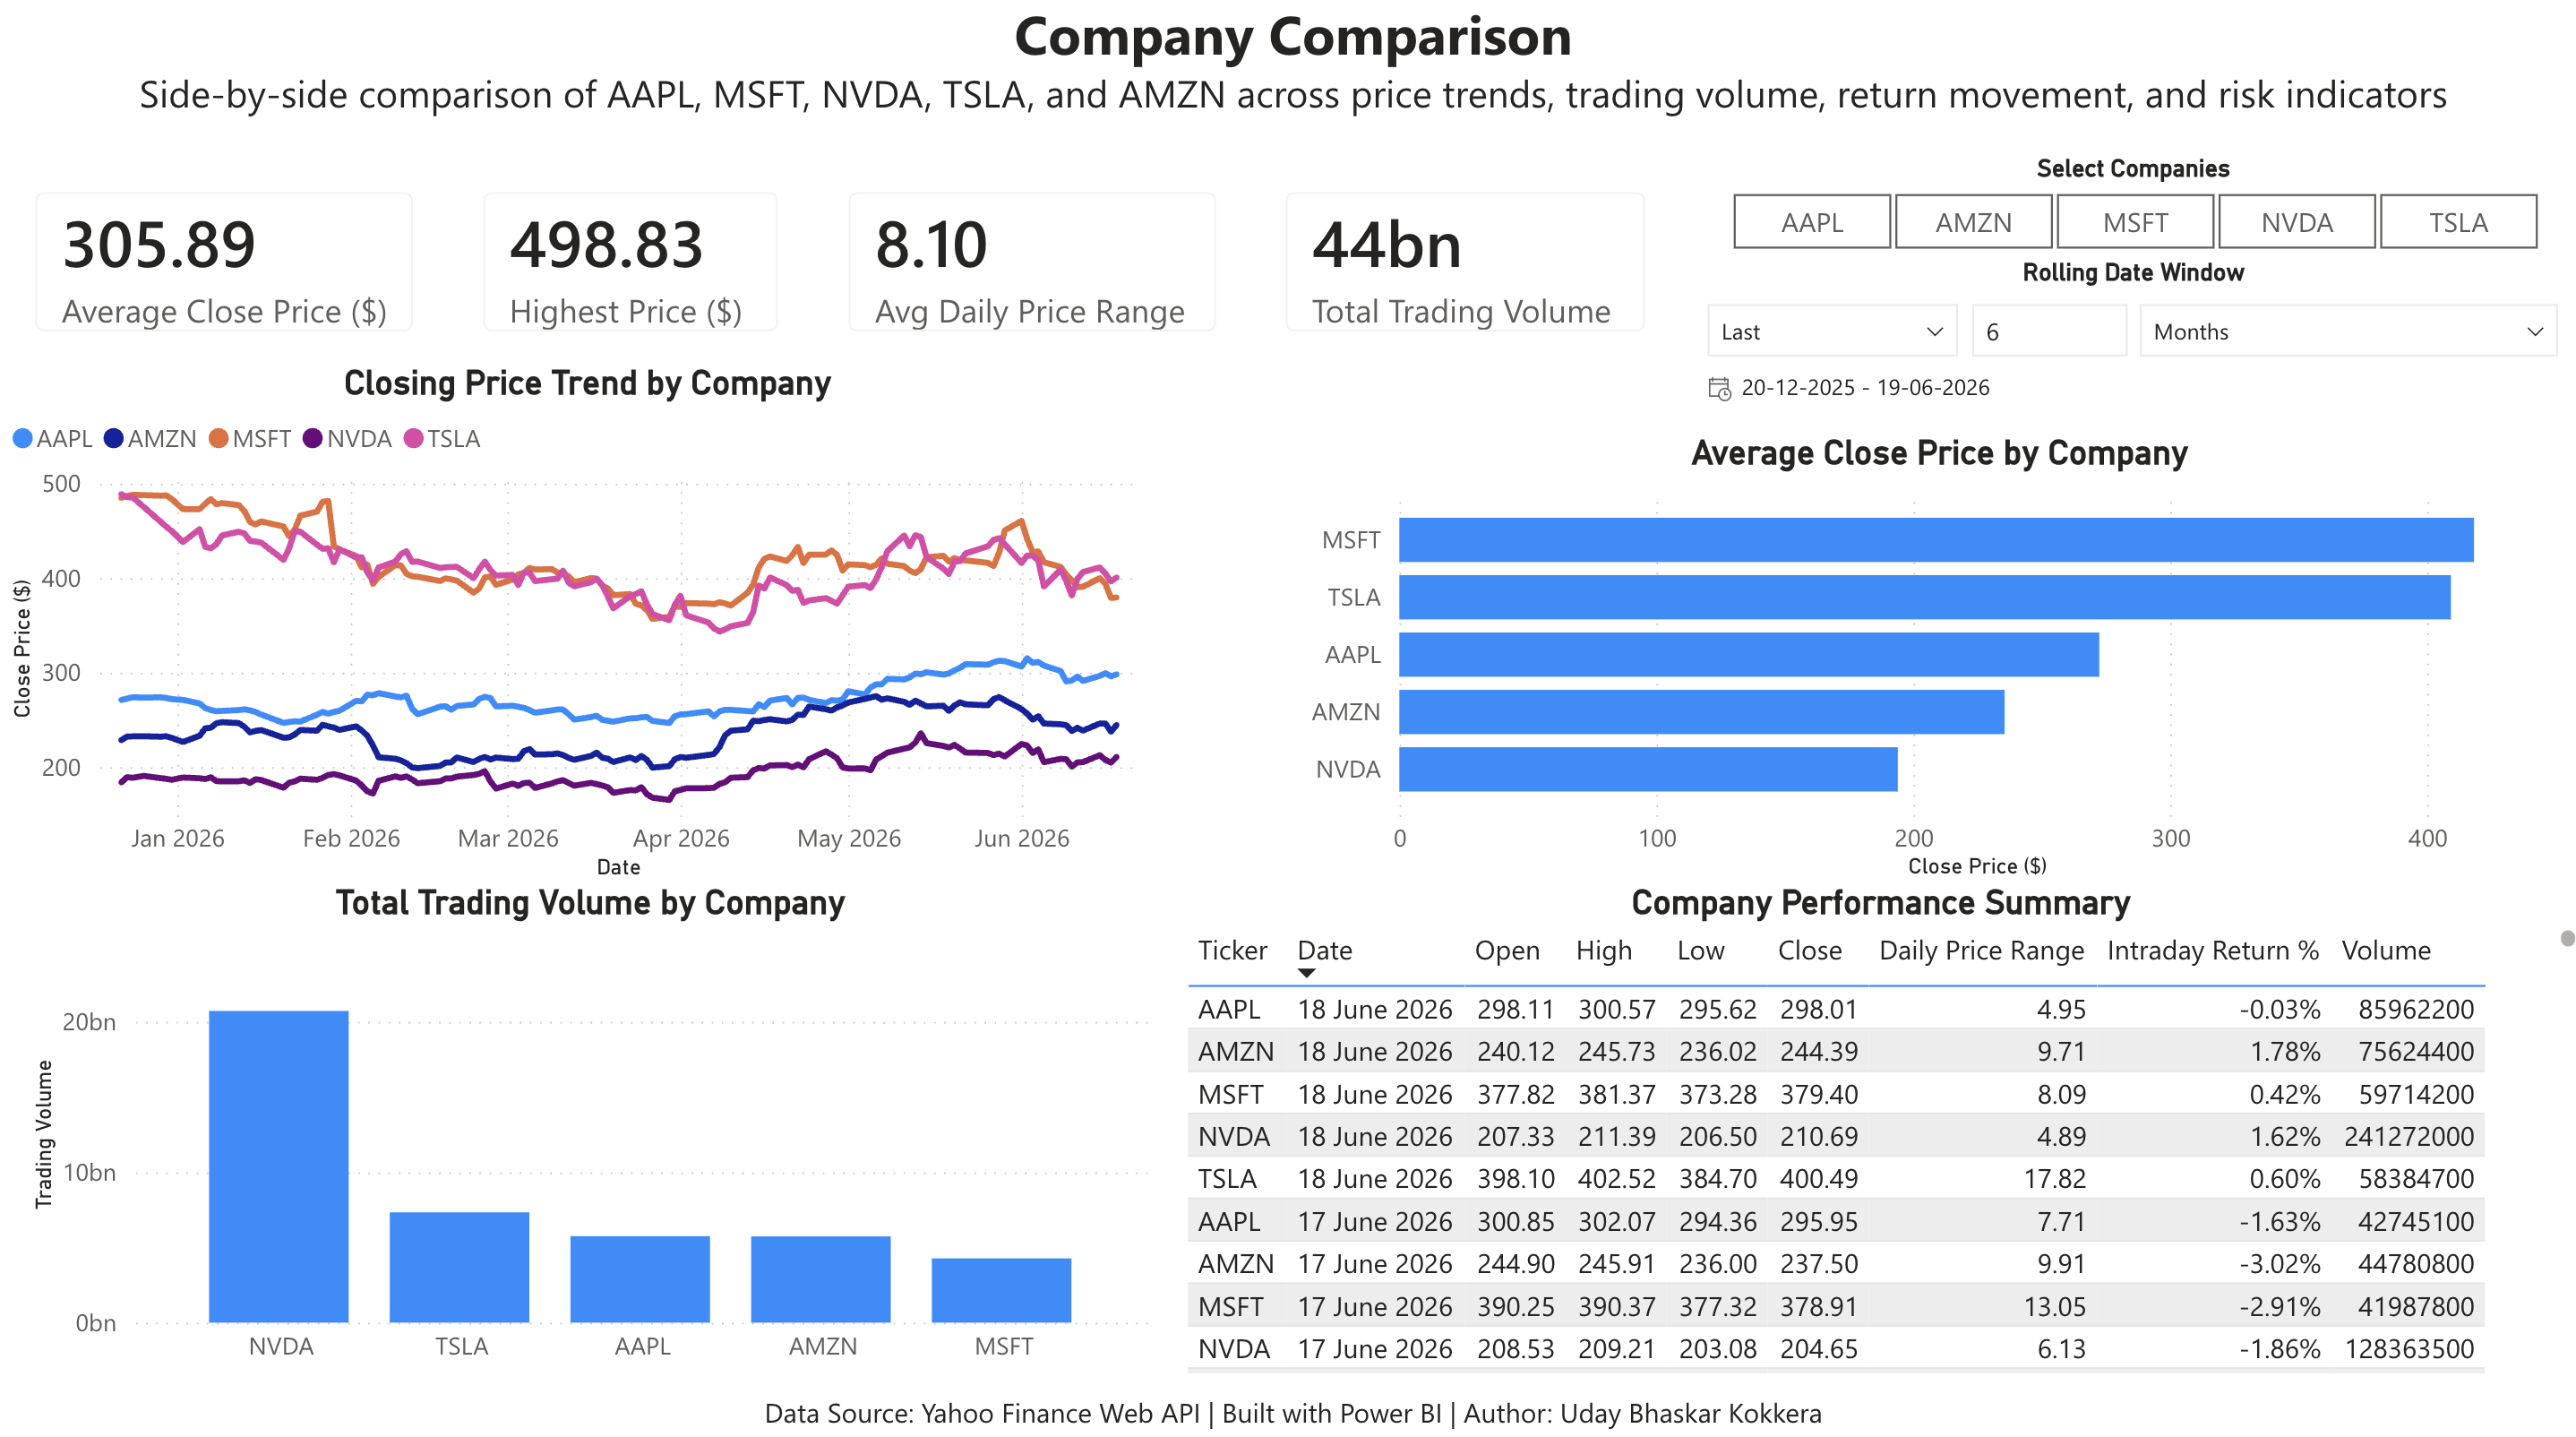

This screenshot's page, from the dashboard's own definition file:
{"tool":"powerbi","page":{"name":"Company Comparison","canvas":[1280,720],"ordinal":3},"visuals":[{"type":"textbox","box":[0,0,1279.7,72.2],"z":0},{"type":"cardVisual","fields":{"Data":["Avg(Stock_Prices.close)"]},"box":[0,85.3,221.2,103.1],"z":1000},{"type":"cardVisual","fields":{"Data":["Max(Stock_Prices.high)"]},"box":[221.2,85.3,180.9,103.1],"z":2000},{"type":"cardVisual","fields":{"Data":["Avg(Stock_Prices.Daily Price Range)"]},"box":[402.2,85.3,216.6,103.1],"z":3000},{"type":"cardVisual","fields":{"Data":["Sum(Stock_Prices.volume)"]},"box":[618.8,85.3,212.8,103.1],"z":4000},{"type":"lineChart","title":"Closing Price Trend by Company","fields":{"Category":["Stock_Prices.timestamp"],"Series":["Stock_Prices.Ticker"],"Y":["Avg(Stock_Prices.close)"]},"box":[0,188.4,581.2,257.8],"z":5000},{"type":"clusteredBarChart","title":"Average Close Price by Company","fields":{"Category":["Stock_Prices.Ticker"],"Y":["Avg(Stock_Prices.close)"]},"box":[640.3,223.1,639.4,223.1],"z":6000},{"type":"clusteredColumnChart","title":"Total Trading Volume by Company","fields":{"Category":["Stock_Prices.Ticker"],"Y":["Sum(Stock_Prices.volume)"]},"box":[10.3,446.2,562.5,245.6],"z":7000},{"type":"tableEx","title":"Company Performance Summary","fields":{"Values":["Stock_Prices.Ticker","Stock_Prices.timestamp","Sum(Stock_Prices.open)","Sum(Stock_Prices.high)","Sum(Stock_Prices.low)","Sum(Stock_Prices.close)","Sum(Stock_Prices.Daily Price Range)","Sum(Stock_Prices.Intraday Return %)","Sum(Stock_Prices.volume)"]},"box":[581.2,446.2,698.4,245.6],"z":8000},{"type":"slicer","title":"Select Companies","fields":{"Values":["Stock_Prices.Ticker"]},"box":[831.6,85.3,448.1,51.6],"z":9000},{"type":"slicer","title":"Rolling Date Window","fields":{"Values":["Stock_Prices.timestamp"]},"box":[831.6,136.9,448.1,75],"z":10000},{"type":"textbox","box":[0,691.9,1279.7,28.1],"z":11000}]}

Visuals, with their boxes in screenshot pixels (x1, y1, x2, y2), scaled from the page's 1280x720 canvas onto the 2576x1437 screenshot:
textbox: (0, 0, 2575, 144)
cardVisual - Avg(Stock_Prices.close): (0, 170, 445, 376)
cardVisual - Max(Stock_Prices.high): (445, 170, 809, 376)
cardVisual - Avg(Stock_Prices.Daily Price Range): (810, 170, 1245, 376)
cardVisual - Sum(Stock_Prices.volume): (1245, 170, 1674, 376)
"Closing Price Trend by Company" lineChart: (0, 376, 1170, 891)
"Average Close Price by Company" clusteredBarChart: (1289, 445, 2575, 891)
"Total Trading Volume by Company" clusteredColumnChart: (21, 891, 1153, 1381)
"Company Performance Summary" tableEx: (1170, 891, 2575, 1381)
"Select Companies" slicer: (1674, 170, 2575, 273)
"Rolling Date Window" slicer: (1674, 273, 2575, 423)
textbox: (0, 1381, 2575, 1436)
